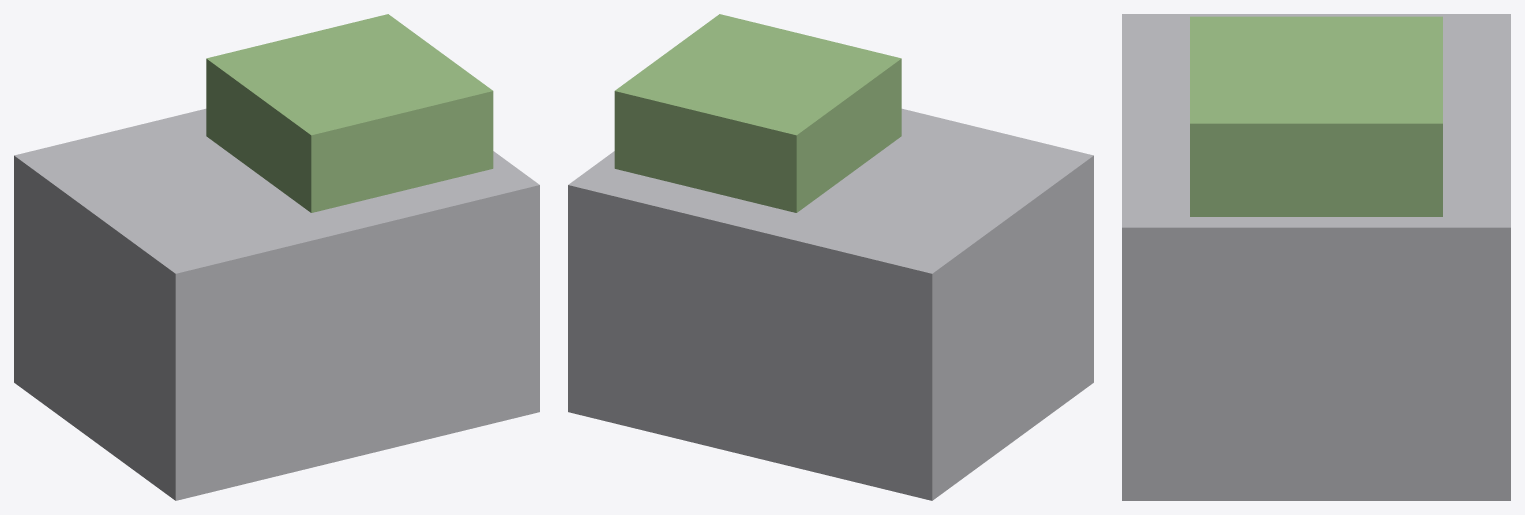
Rendered from Prop_Dress_AMF_Rock_V12.glb.
3 renders of one model, left to right at view 1: azimuth 30°, elevation 25°; view 2: azimuth 150°, elevation 25°; view 3: azimuth 270°, elevation 25°, orthographic. The views are drawn at different scales.
Parts seen in each view (by area): view 1: Prop_Dress_AMF_Rock_V12; view 2: Prop_Dress_AMF_Rock_V12; view 3: Prop_Dress_AMF_Rock_V12.
Part boxes in pixels (x1=…): Prop_Dress_AMF_Rock_V12: x1=14, y1=14, x2=539, y2=500; Prop_Dress_AMF_Rock_V12: x1=568, y1=14, x2=1093, y2=500; Prop_Dress_AMF_Rock_V12: x1=1122, y1=14, x2=1510, y2=500.
Bounding box in the file's own units: 1.34 × 1.07 × 1.03.
